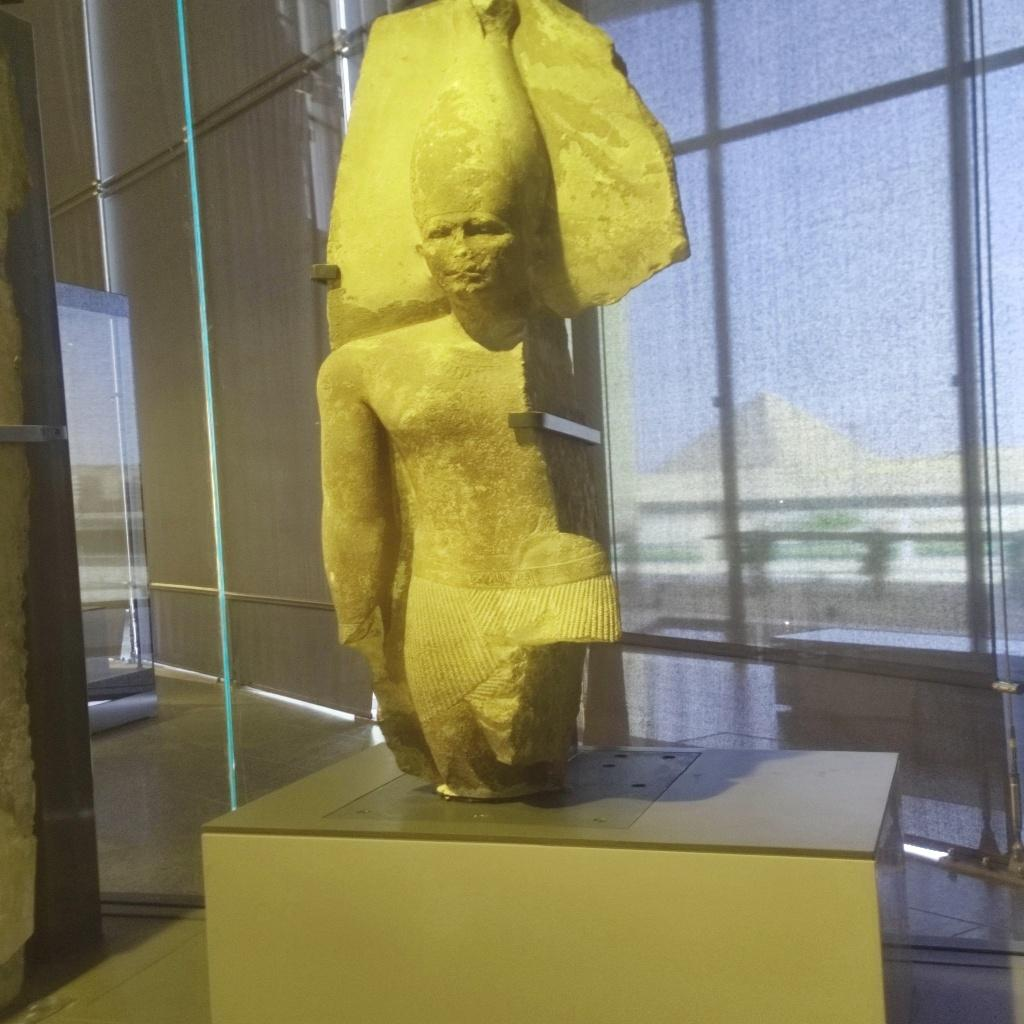Statue of Snefru: (308, 0, 694, 804)
